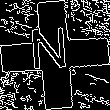N_S: (33, 28, 77, 82)
